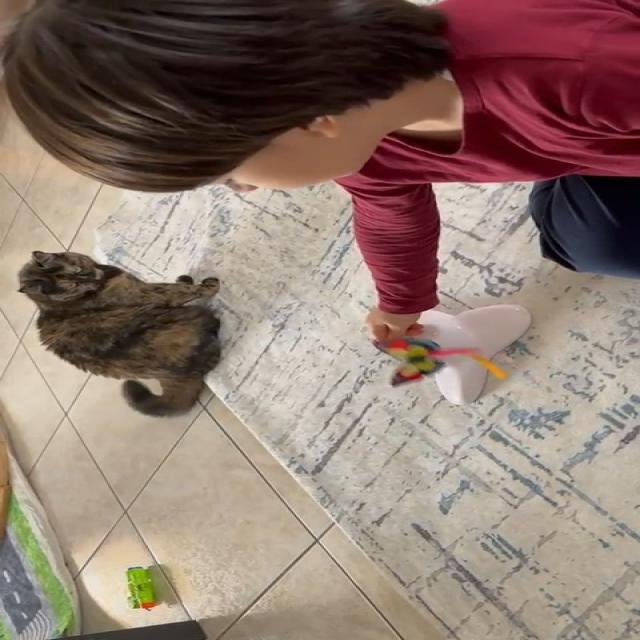authorized: (16, 249, 223, 418)
